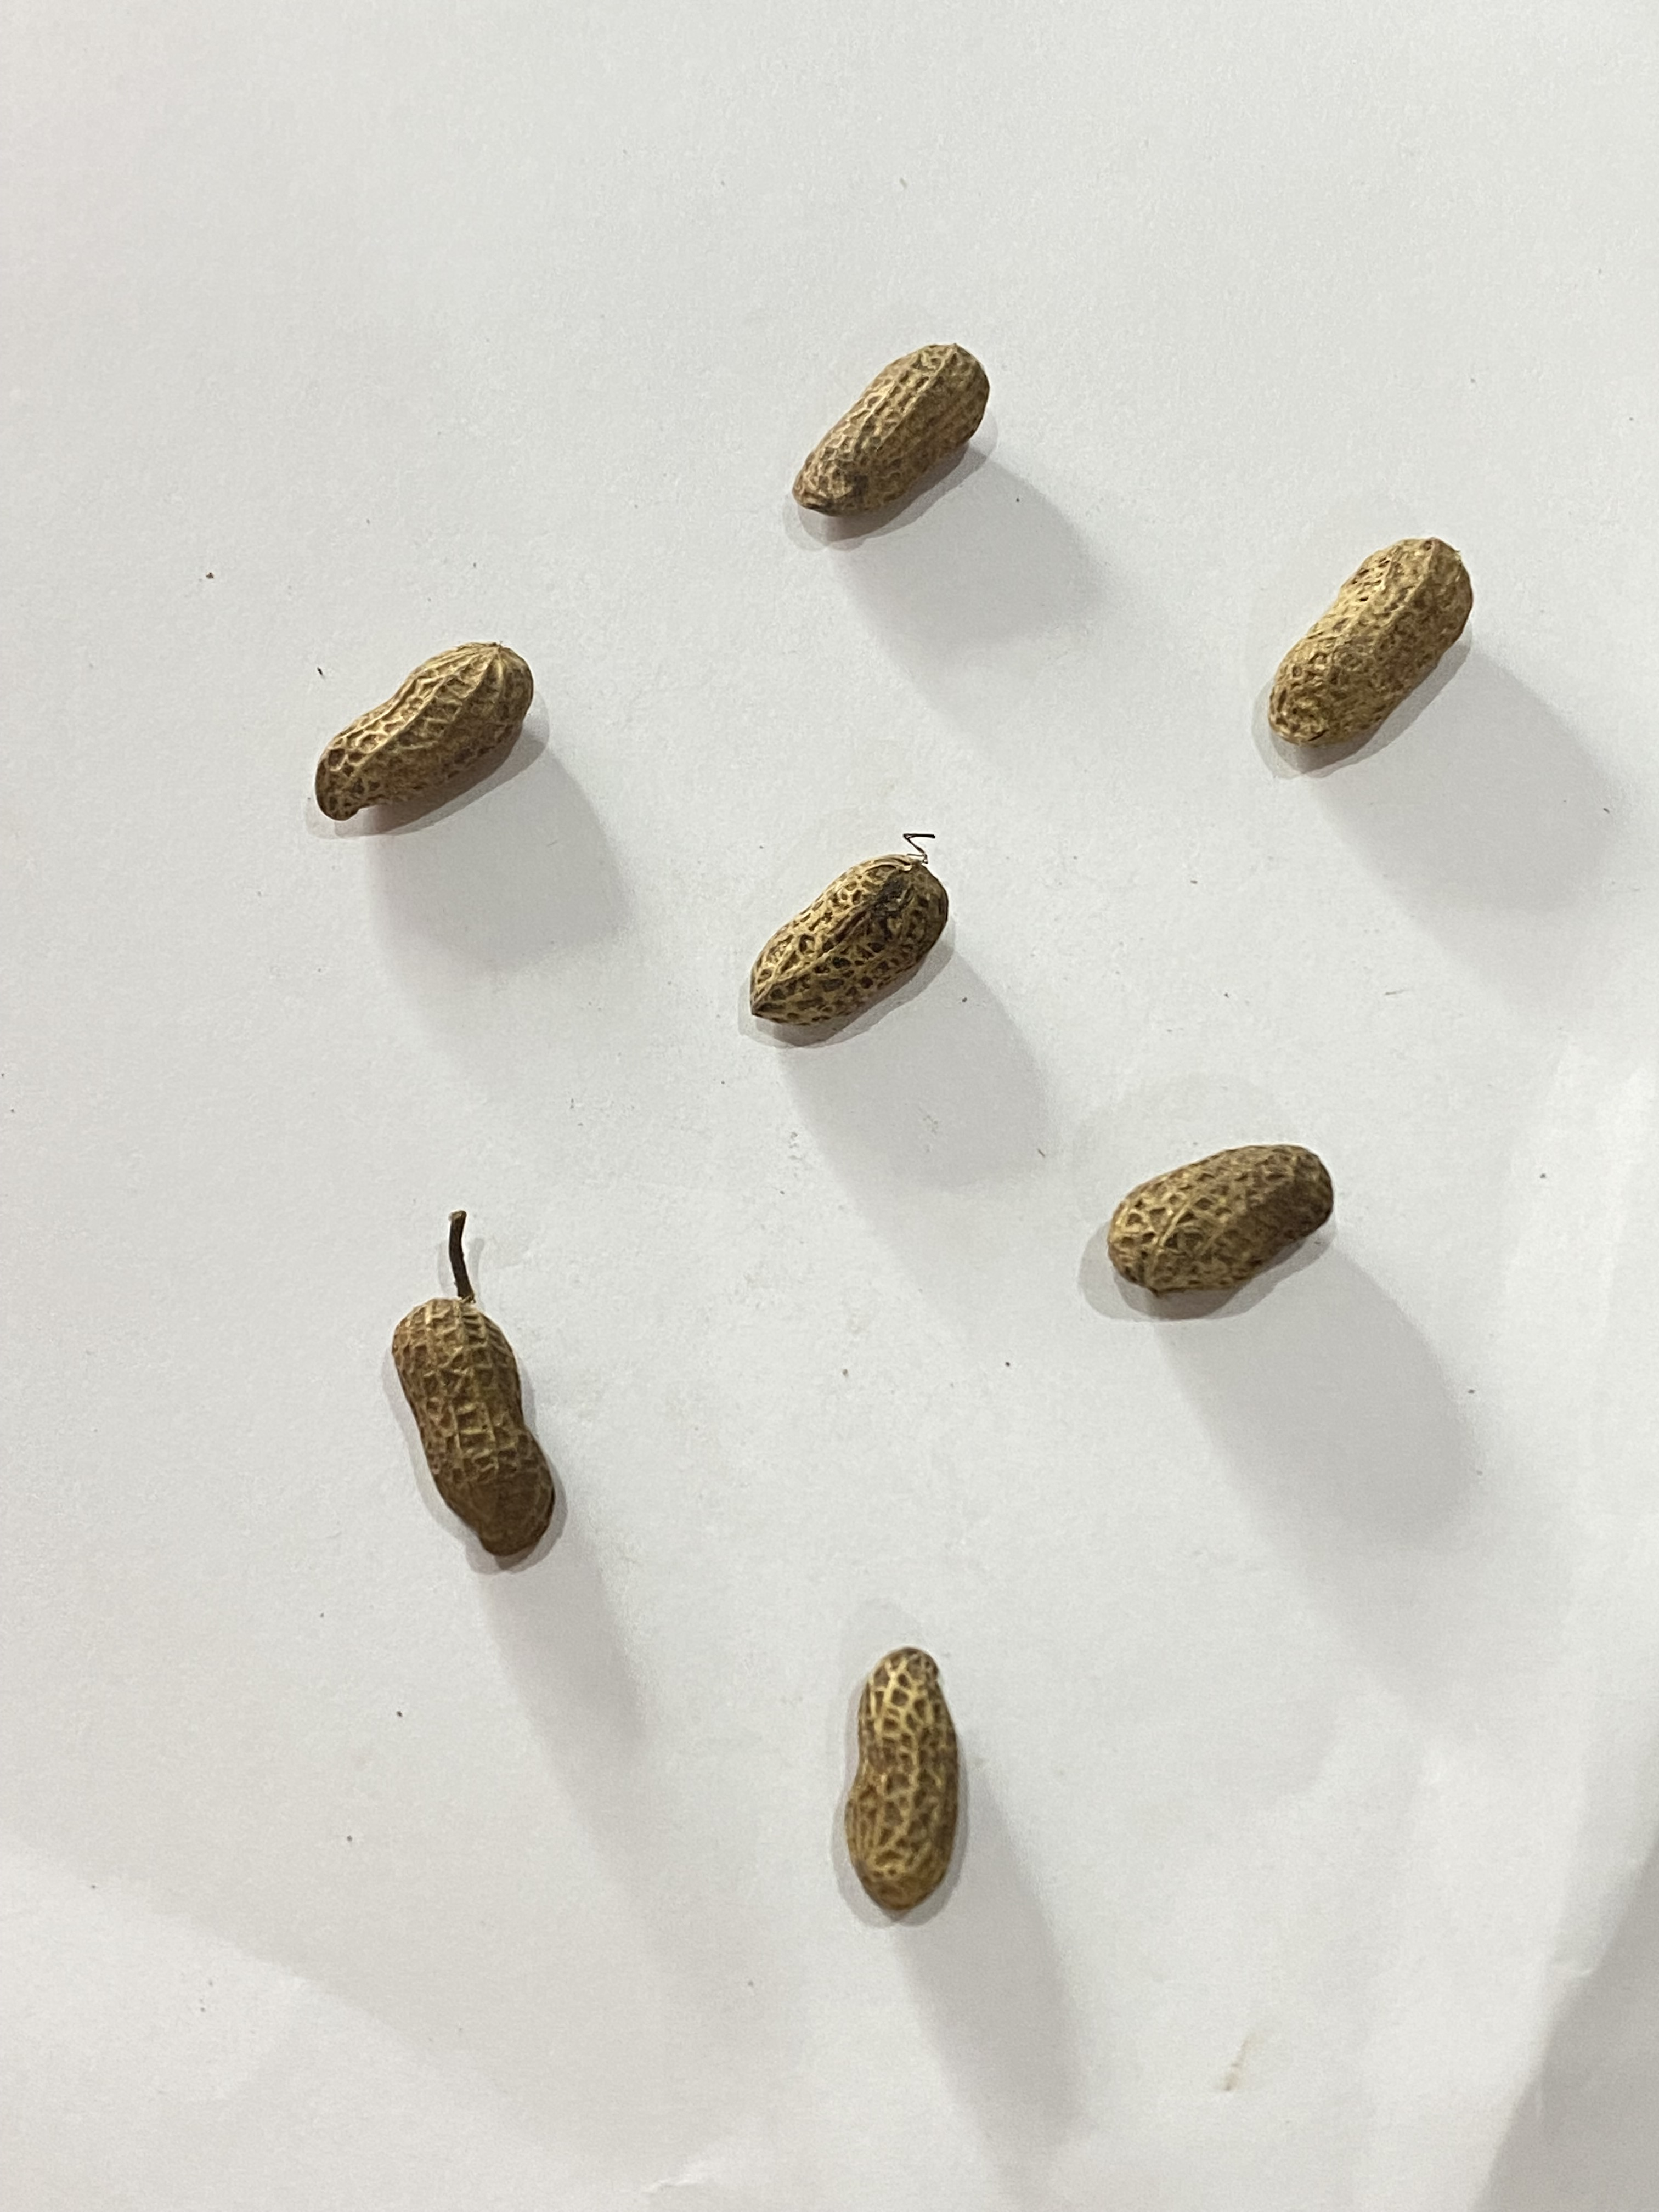kacang1: (1100, 1129, 1361, 1317)
kacang2: (368, 1278, 580, 1571), (286, 618, 580, 822), (816, 1635, 992, 1940), (1243, 533, 1476, 752), (775, 320, 1009, 533), (732, 848, 962, 1031)
